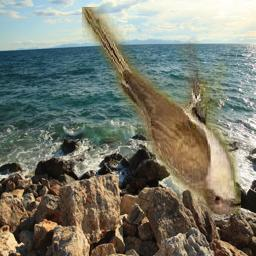Cuckoo: (83, 8, 242, 215)
